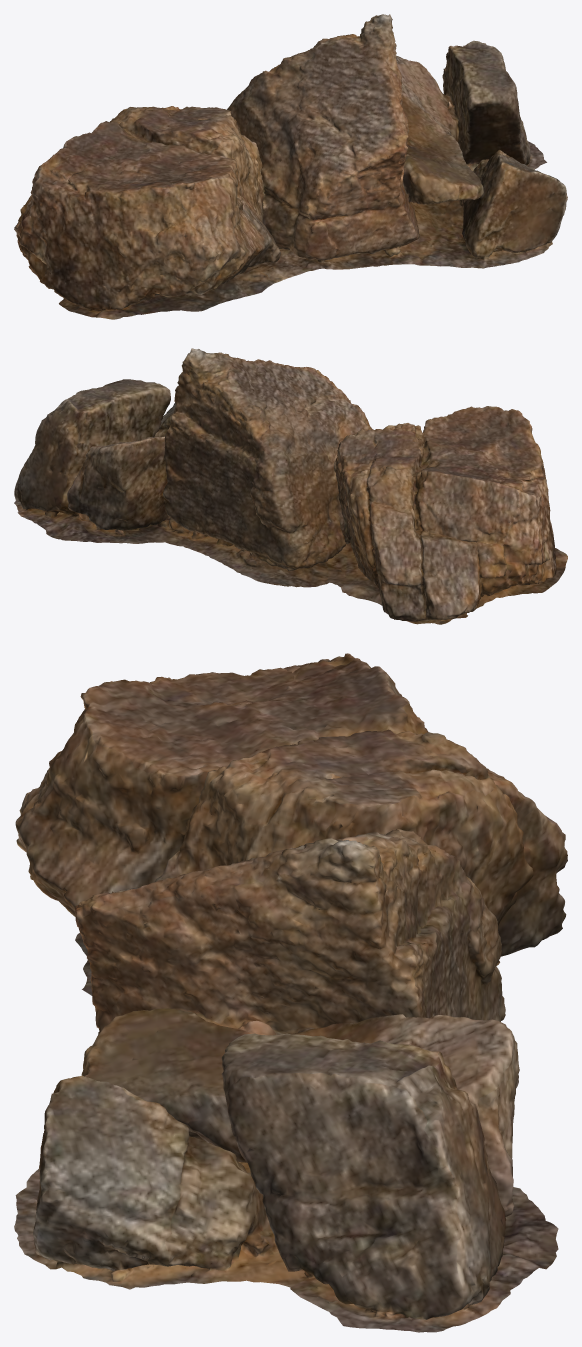
Rendered from namaqualand_boulder_02.glb.
3 renders of one model, top to bottom at view 1: azimuth 30°, elevation 25°; view 2: azimuth 150°, elevation 25°; view 3: azimuth 270°, elevation 25°, orthographic. The views are drawn at different scales.
Parts seen in each view (by area): view 1: boulder_02; view 2: boulder_02; view 3: boulder_02.
Part boxes in pixels (box(x1,y1,x2,y2)): boulder_02: box(14, 14, 567, 319); boulder_02: box(14, 348, 567, 624); boulder_02: box(14, 653, 567, 1332).
Bounding box in the file's own units: 2.53 × 0.8832 × 1.23.
1 material, 1 textured.
